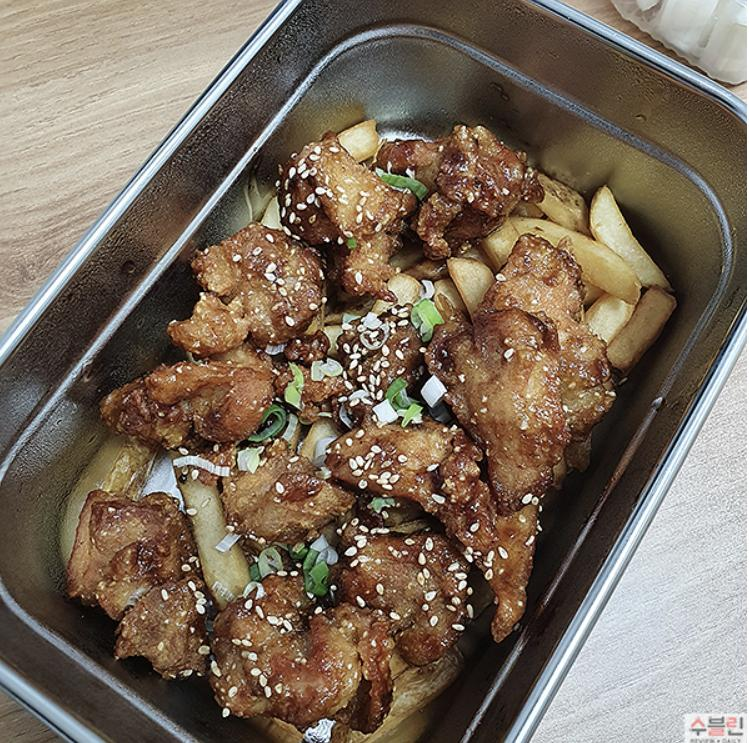Lunch Box: (0, 0, 746, 742)
